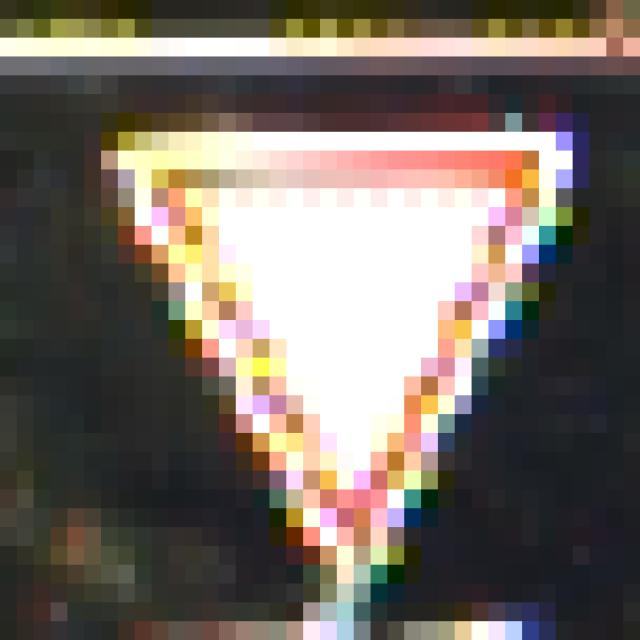Give Way: (102, 95, 557, 547)
